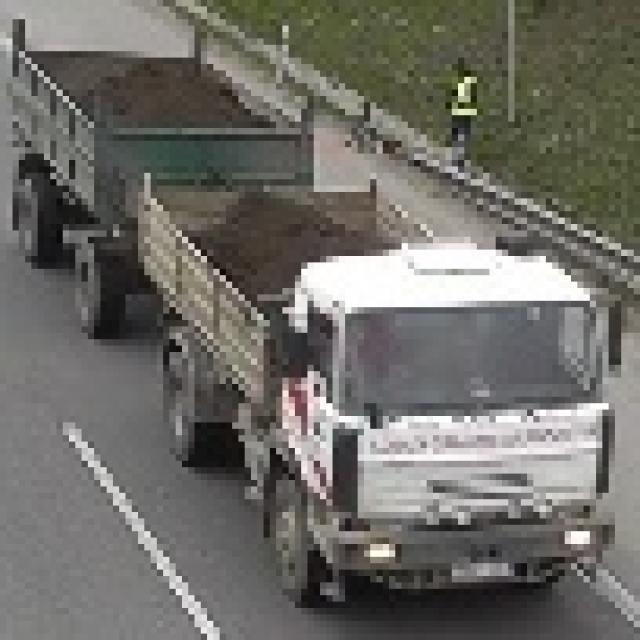truck: (0, 13, 615, 608)
